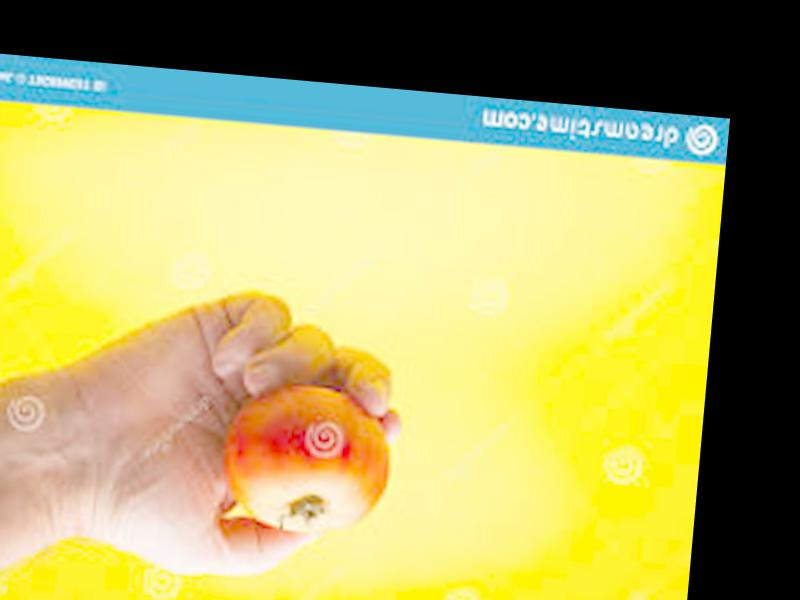Tomato: (218, 379, 394, 538)
